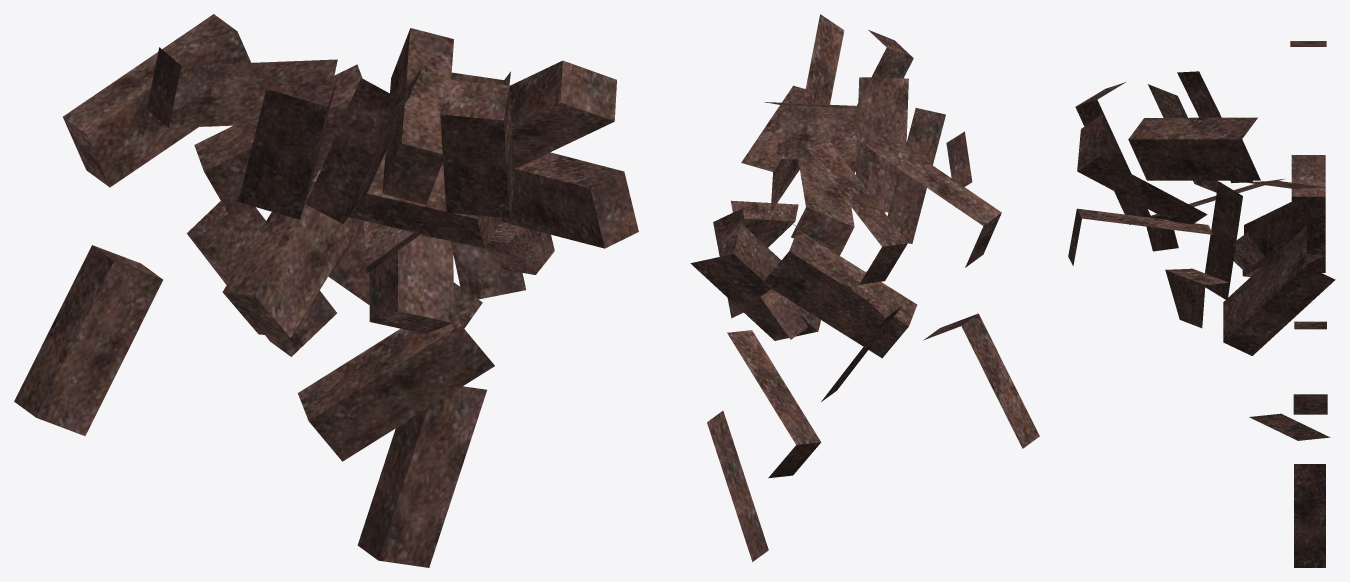
Rendered from prop_redbrickpile_corner_in_debris_01.glb.
3 renders of one model, left to right at view 1: azimuth 30°, elevation 25°; view 2: azimuth 150°, elevation 25°; view 3: azimuth 270°, elevation 25°, orthographic. The views are drawn at different scales.
Size of the model in its own units: 41.06 by 50.88 by 27.01.
1 material, 1 textured.
